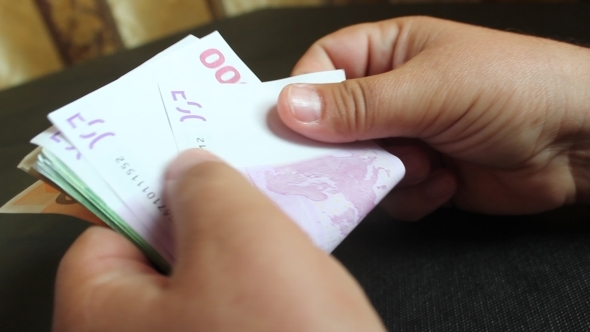billete: (1, 29, 407, 281)
